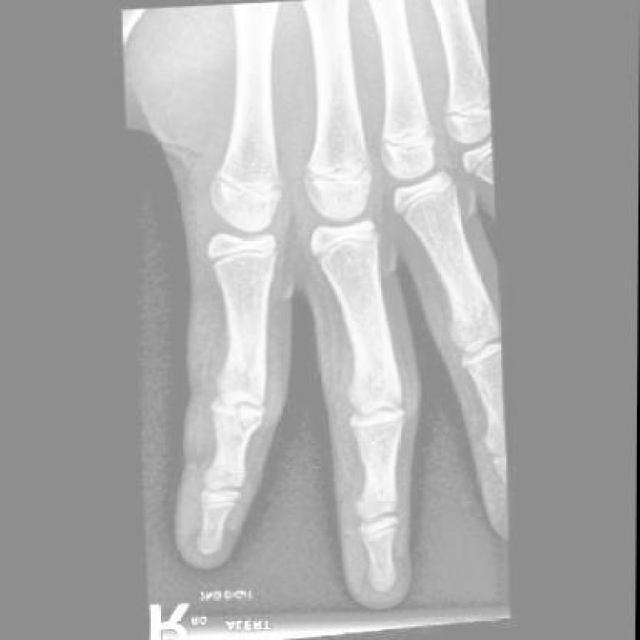Fracture: (220, 406, 262, 443)
